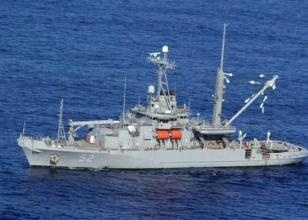warship: (12, 48, 307, 173)
